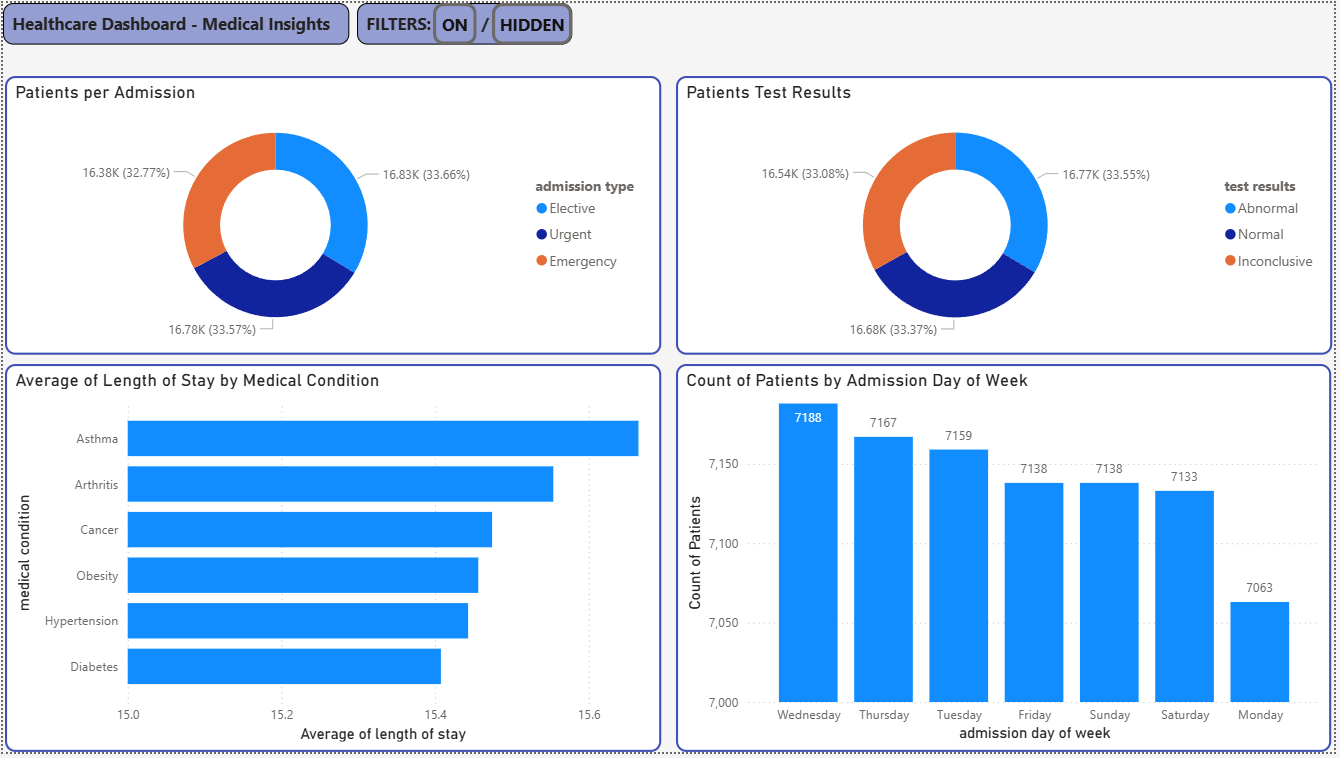

Layout of this report page (visuals, bound fields, positions):
{"tool":"powerbi","page":{"name":"Medical Insights","canvas":[1280,720],"ordinal":3},"visuals":[{"type":"textbox","box":[340.2,0,207,40],"z":0,"group":"g1"},{"type":"donutChart","title":"Patients per Admission","fields":{"Category":["healthcare_clean.admission_type"],"Y":["CountNonNull(healthcare_clean.name)"]},"box":[1.8,70.2,631.1,267.6],"z":0},{"type":"actionButton","box":[413.2,0,42,40],"z":1000,"group":"g1"},{"type":"donutChart","title":"Patients Test Results","fields":{"Category":["healthcare_clean.test_results"],"Y":["CountNonNull(healthcare_clean.name)"]},"box":[647.1,70.2,631.1,267.6],"z":1000},{"type":"actionButton","box":[470.2,0,77,40],"z":2000,"group":"g1"},{"type":"barChart","title":"Average of Length of Stay by Medical Condition","fields":{"Category":["healthcare_clean.medical_condition"],"Y":["Avg(healthcare_clean.length_of_stay)"]},"box":[1.8,346.7,631.1,373.3],"z":2000},{"type":"columnChart","title":"Count of Patients by Admission Day of Week","fields":{"Category":["healthcare_clean.admission_day_of_week"],"Y":["CountNonNull(healthcare_clean.name)"]},"box":[647,347,630,373],"z":3000},{"type":"textbox","box":[0,0,333,40],"z":4000},{"type":"group","id":"g1","title":"Group 2","box":[340.2,0,207.2,39.9],"z":6000}]}

Visuals, with their boxes in screenshot pixels (x1, y1, x2, y2), scaled from the page's 1280x720 canvas onto the 1340x758 screenshot:
textbox: bbox(356, 0, 573, 42)
"Patients per Admission" donutChart: bbox(2, 74, 663, 356)
actionButton: bbox(433, 0, 477, 42)
"Patients Test Results" donutChart: bbox(677, 74, 1338, 356)
actionButton: bbox(492, 0, 573, 42)
"Average of Length of Stay by Medical Condition" barChart: bbox(2, 365, 663, 757)
"Count of Patients by Admission Day of Week" columnChart: bbox(677, 365, 1337, 757)
textbox: bbox(0, 0, 349, 42)
"Group 2" group: bbox(356, 0, 573, 42)
